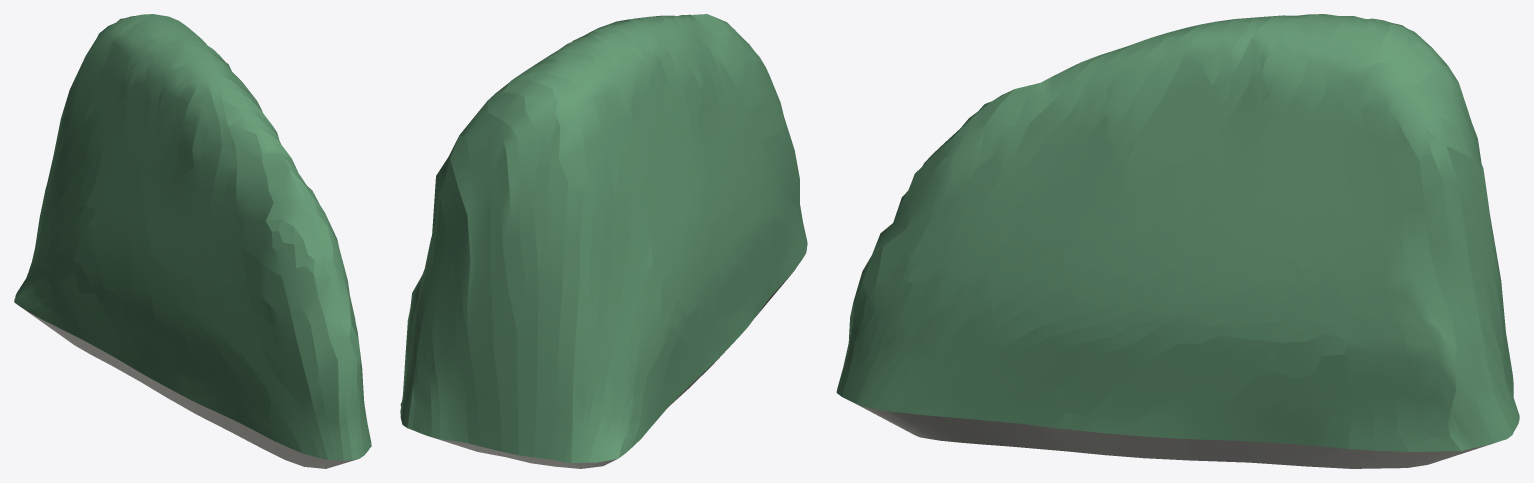
File: island_asian_D.fbx
3 renders of one model, left to right at view 1: azimuth 30°, elevation 25°; view 2: azimuth 150°, elevation 25°; view 3: azimuth 270°, elevation 25°, orthographic. The views are drawn at different scales.
Visible parts, largest first — view 1: island_asian_D; view 2: island_asian_D; view 3: island_asian_D.
Boxes of the visible parts, left/top/right/bottom form: island_asian_D: left=14, top=14, right=371, bottom=468; island_asian_D: left=400, top=14, right=807, bottom=468; island_asian_D: left=836, top=14, right=1519, bottom=468.
Size of the model in its own units: 1421 by 2217 by 3390.
